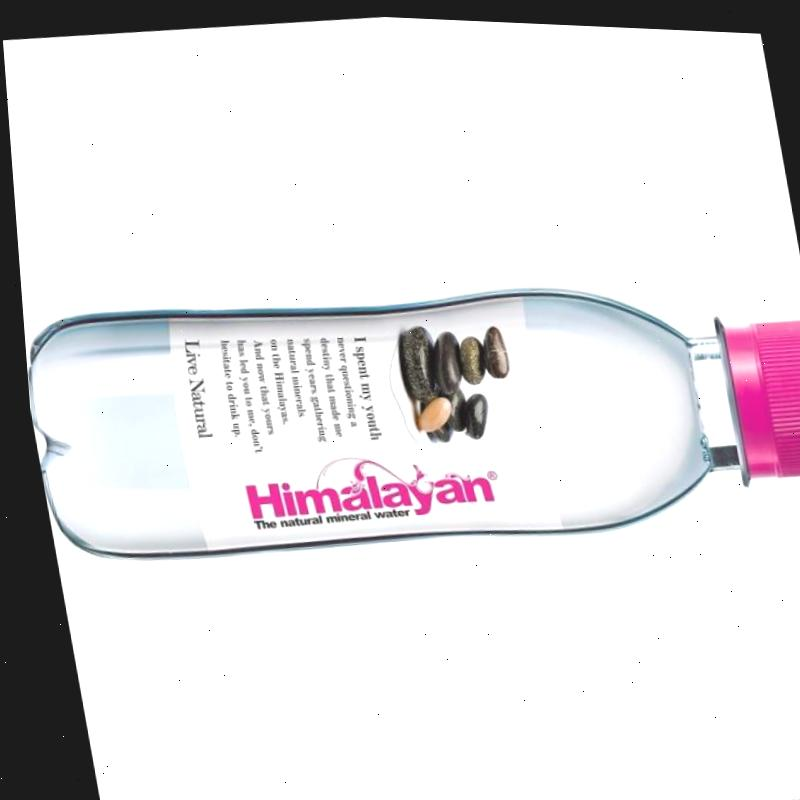botella: (14, 234, 800, 593)
